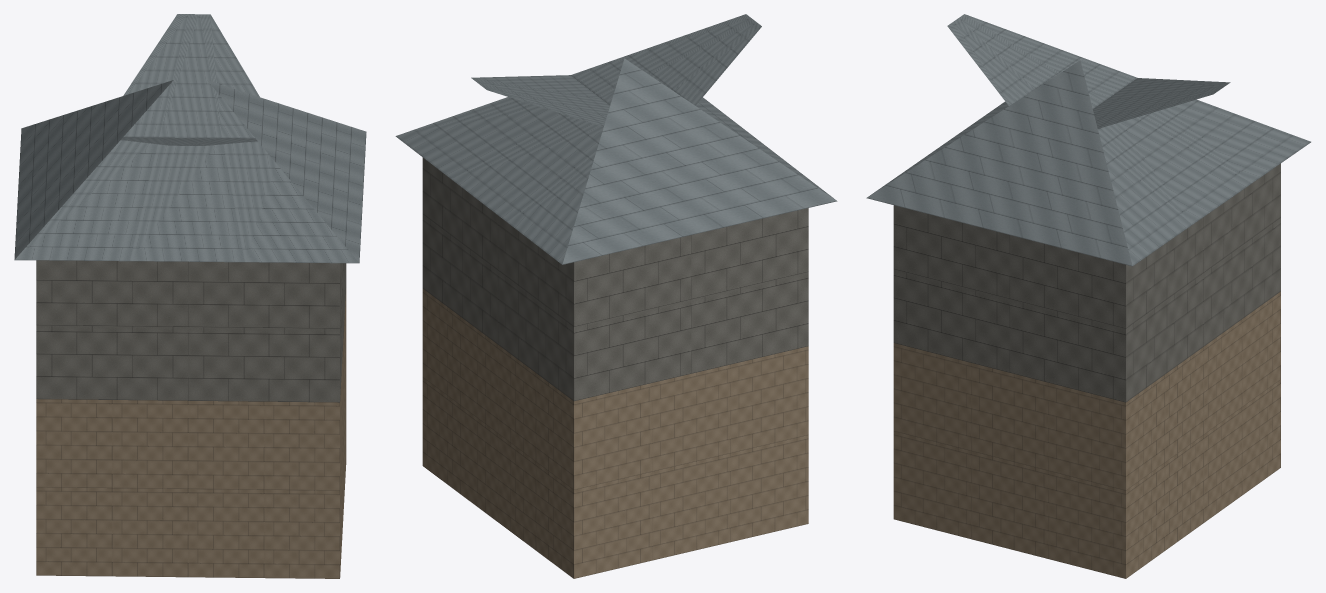
Rendered from bld_c42_-47_460.gltf.
The picture shows the model from 3 angles, left to right: view 1: azimuth 30°, elevation 25°; view 2: azimuth 150°, elevation 25°; view 3: azimuth 270°, elevation 25°; orthographic projection.
Visible parts, largest first — view 1: bld_c42_-47_460; view 2: bld_c42_-47_460; view 3: bld_c42_-47_460.
Part boxes in pixels (x1,y1,x2,y2): bld_c42_-47_460: (14,14,366,578); bld_c42_-47_460: (395,14,837,578); bld_c42_-47_460: (866,14,1310,578).
Size of the model in its own units: 11.5 by 12.22 by 11.22.
Materials: 3 (3 with a texture image).
